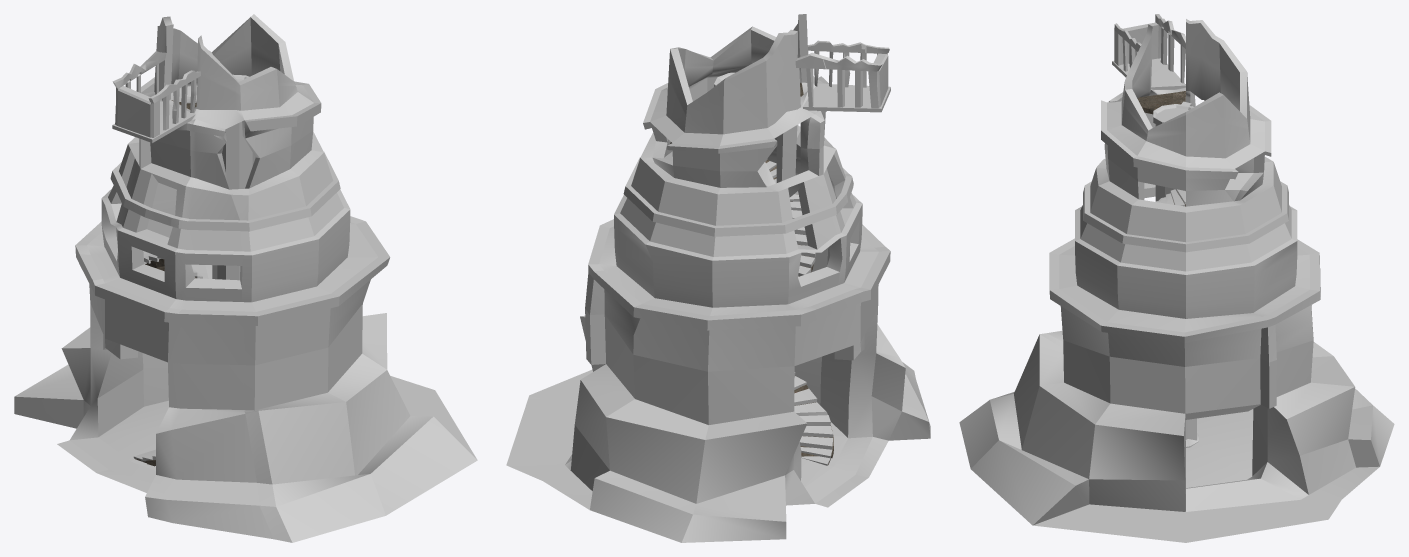
Rendered from FixedTower.fbx.
3 renders of one model, left to right at view 1: azimuth 30°, elevation 25°; view 2: azimuth 150°, elevation 25°; view 3: azimuth 270°, elevation 25°, orthographic. The views are drawn at different scales.
Parts seen in each view (by area): view 1: tower, stairs; view 2: tower, stairs; view 3: tower.
Part boxes in pixels (x1,y1,x2,y2): tower: [14, 14, 477, 542]; stairs: [133, 96, 212, 461]; tower: [506, 14, 930, 542]; stairs: [669, 141, 832, 465]; tower: [959, 14, 1394, 542].
Bounding box in the file's own units: 226 × 271 × 264.
